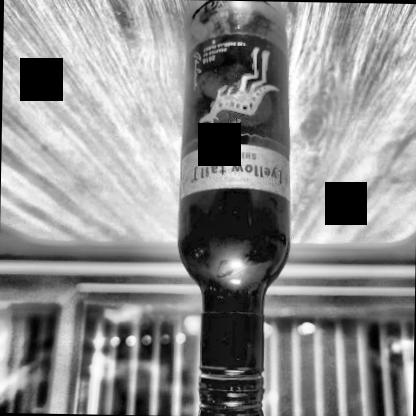yellowtail: (181, 38, 292, 198)
